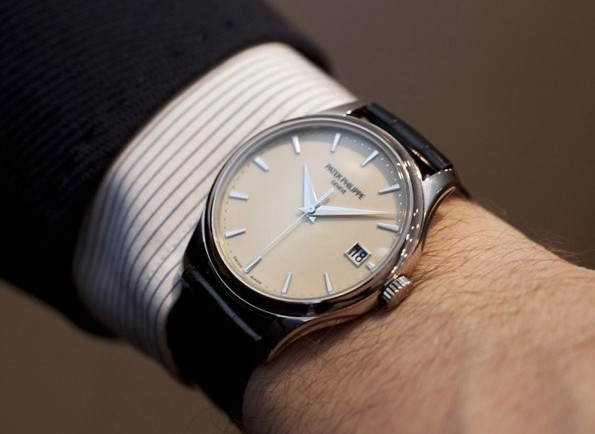clock: (213, 116, 410, 306)
